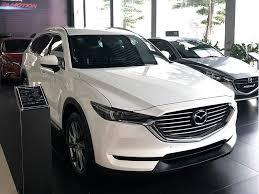mazda: (190, 109, 208, 126)
